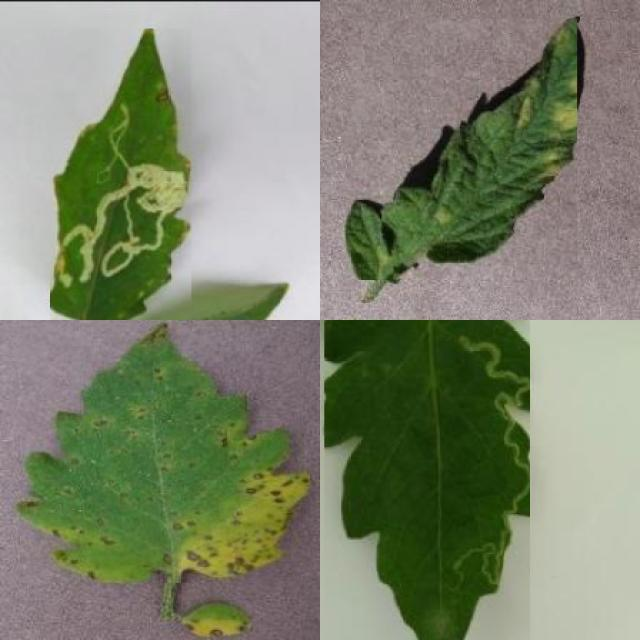Leaf Miner: (324, 320, 530, 640), (50, 29, 191, 320)
Leaf Mold: (346, 19, 578, 280)
Septoria: (16, 323, 310, 583), (180, 600, 253, 639)
